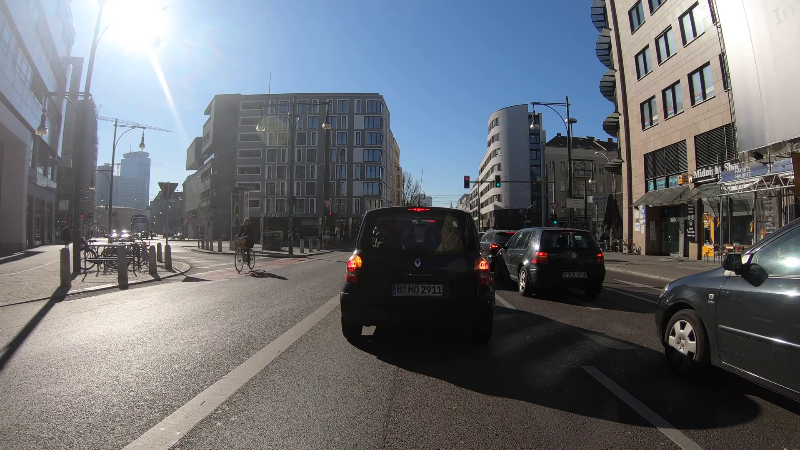Plate: (389, 281, 445, 296), (559, 269, 591, 281)
